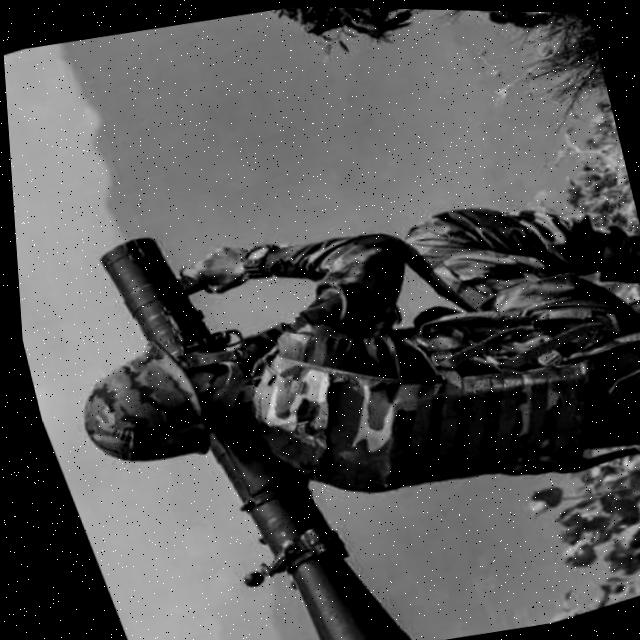rocket: (70, 193, 408, 640)
